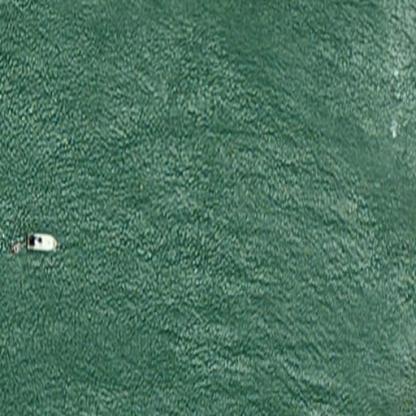ship: (17, 224, 66, 258)
